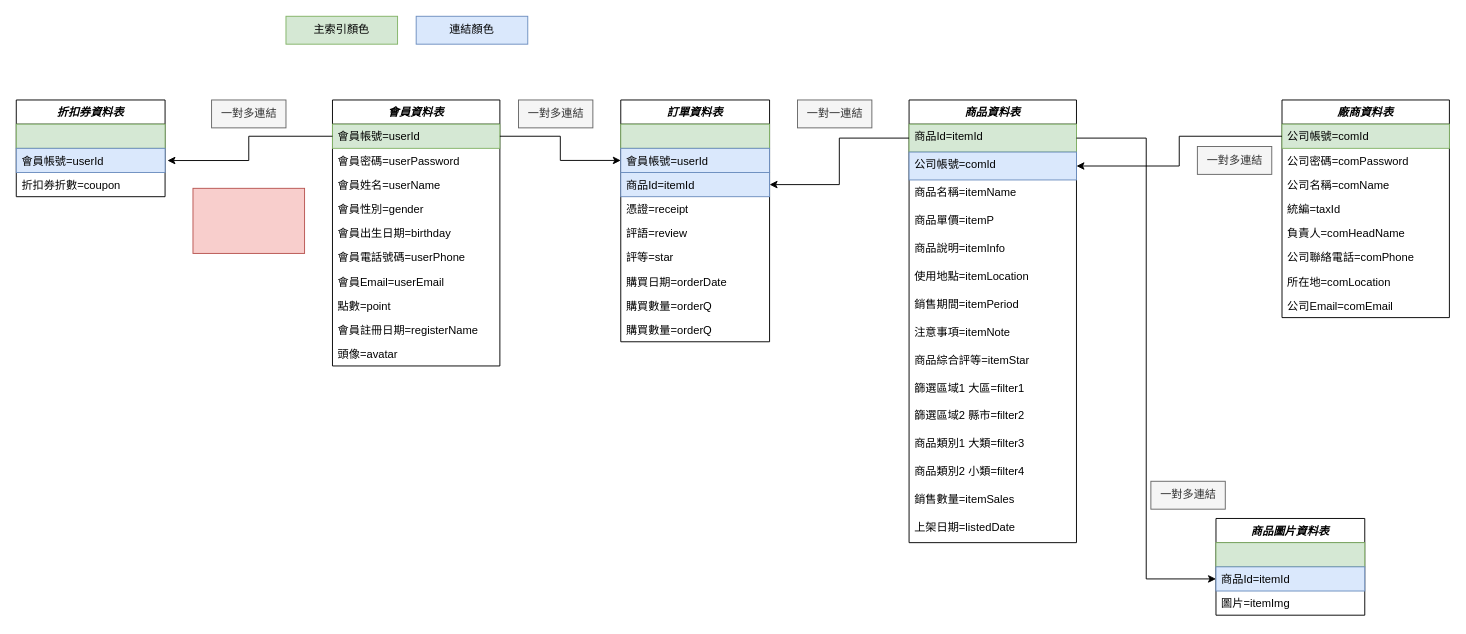
Image size: 1466x634. Some labels were removed from this diagram. The shapes that lost their labels are listed below. From the top down, each one's centre as x and y in pixels, then its label:
At (90,135): "折扣券id=couponId".
At (695,135): "訂單編號=order".
At (248,220): "折扣券與會員可能為多對多關係，建議再 進行討論".
At (1290,554): "圖片Id=imgId".
